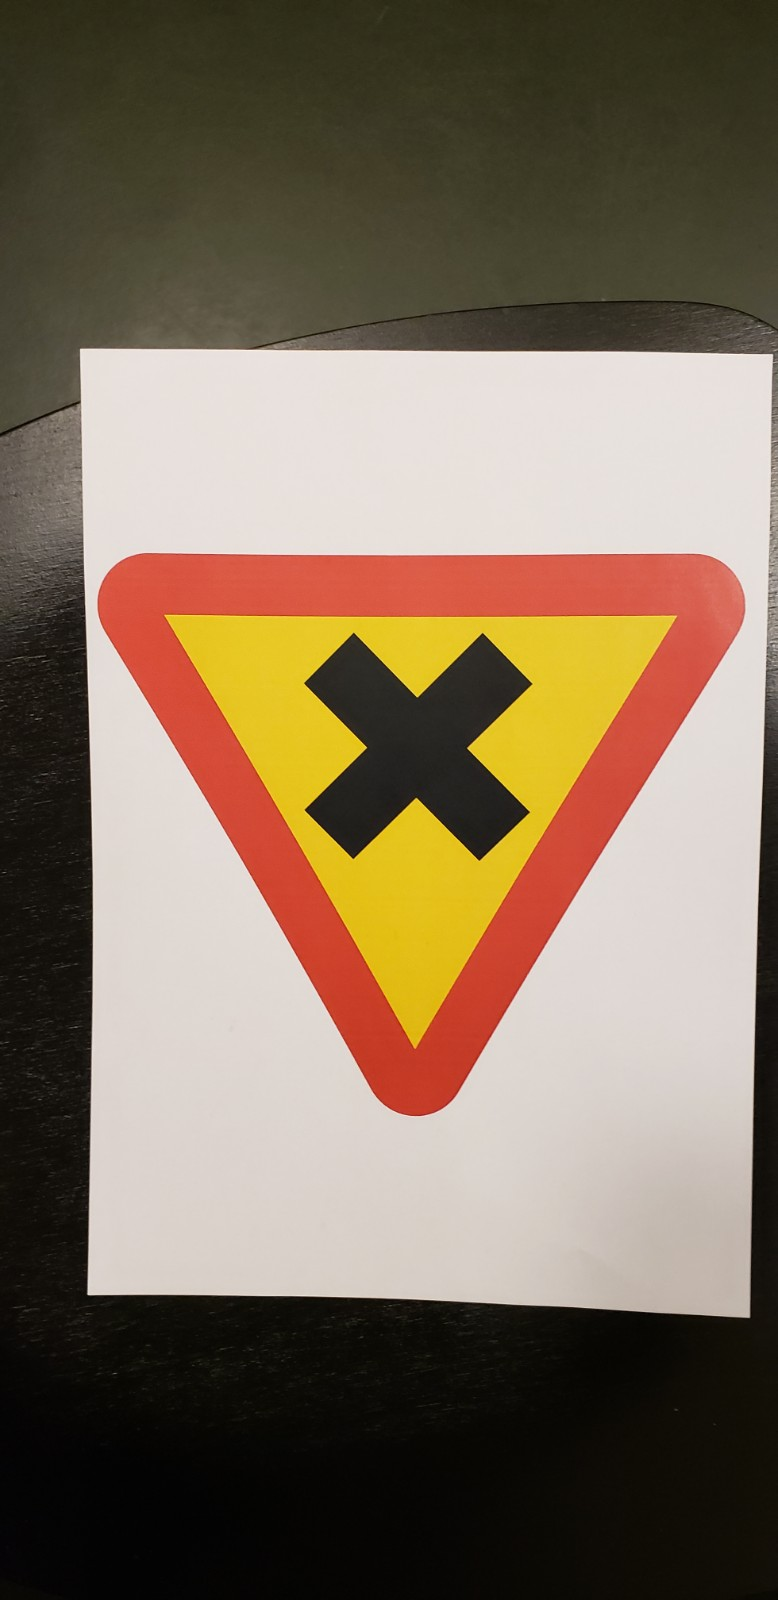junction: (78, 543, 746, 1161)
